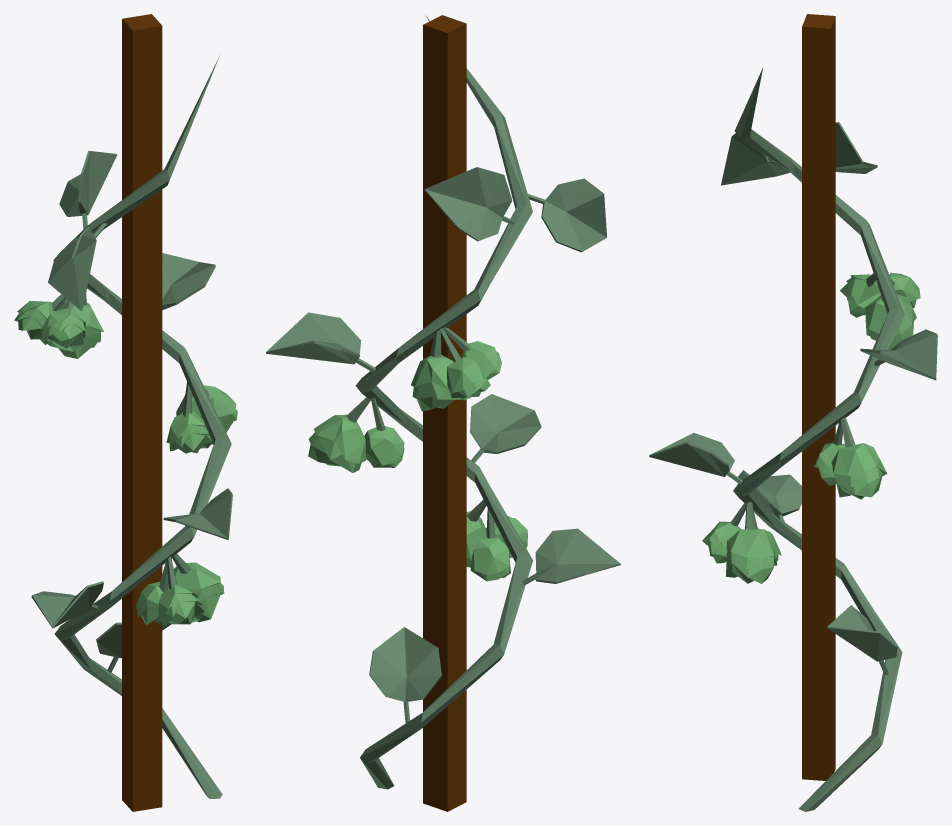
The model's file is artichoke.glb.
3 views of the same model, side by side, from view 1: azimuth 30°, elevation 25°; view 2: azimuth 150°, elevation 25°; view 3: azimuth 270°, elevation 25° (orthographic). The views are drawn at different scales.
Parts seen in each view (by area): view 1: artichoke; view 2: artichoke; view 3: artichoke.
Boxes of the visible parts, x1,y1,x2,y2 form: artichoke: (14,14,237,811); artichoke: (266,15,620,811); artichoke: (649,14,937,811).
Bounding box in the file's own units: 0.4599 × 1.37 × 0.4739.
Materials: 1 (1 with a texture image).
